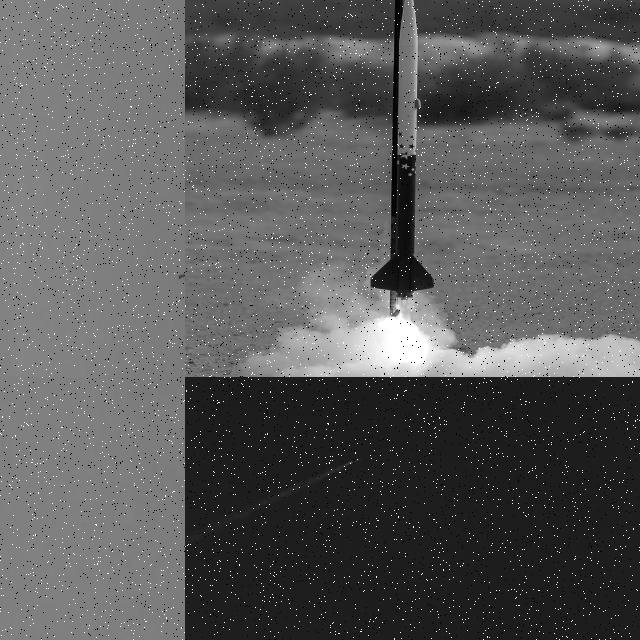Rocket: (368, 0, 436, 299), (348, 457, 362, 465)
